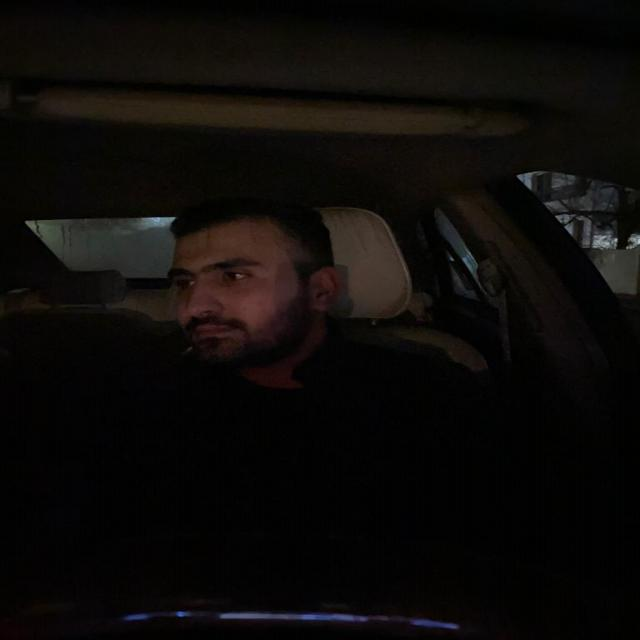LeftRight: (163, 199, 345, 366)
